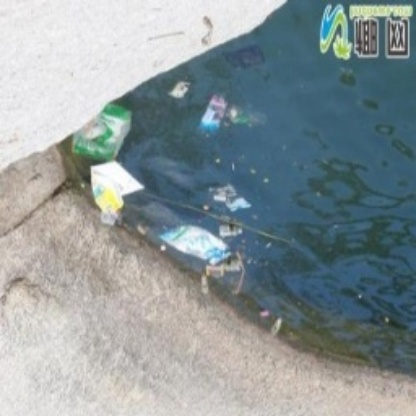plastic-bag: (87, 161, 146, 212), (162, 223, 229, 263)
